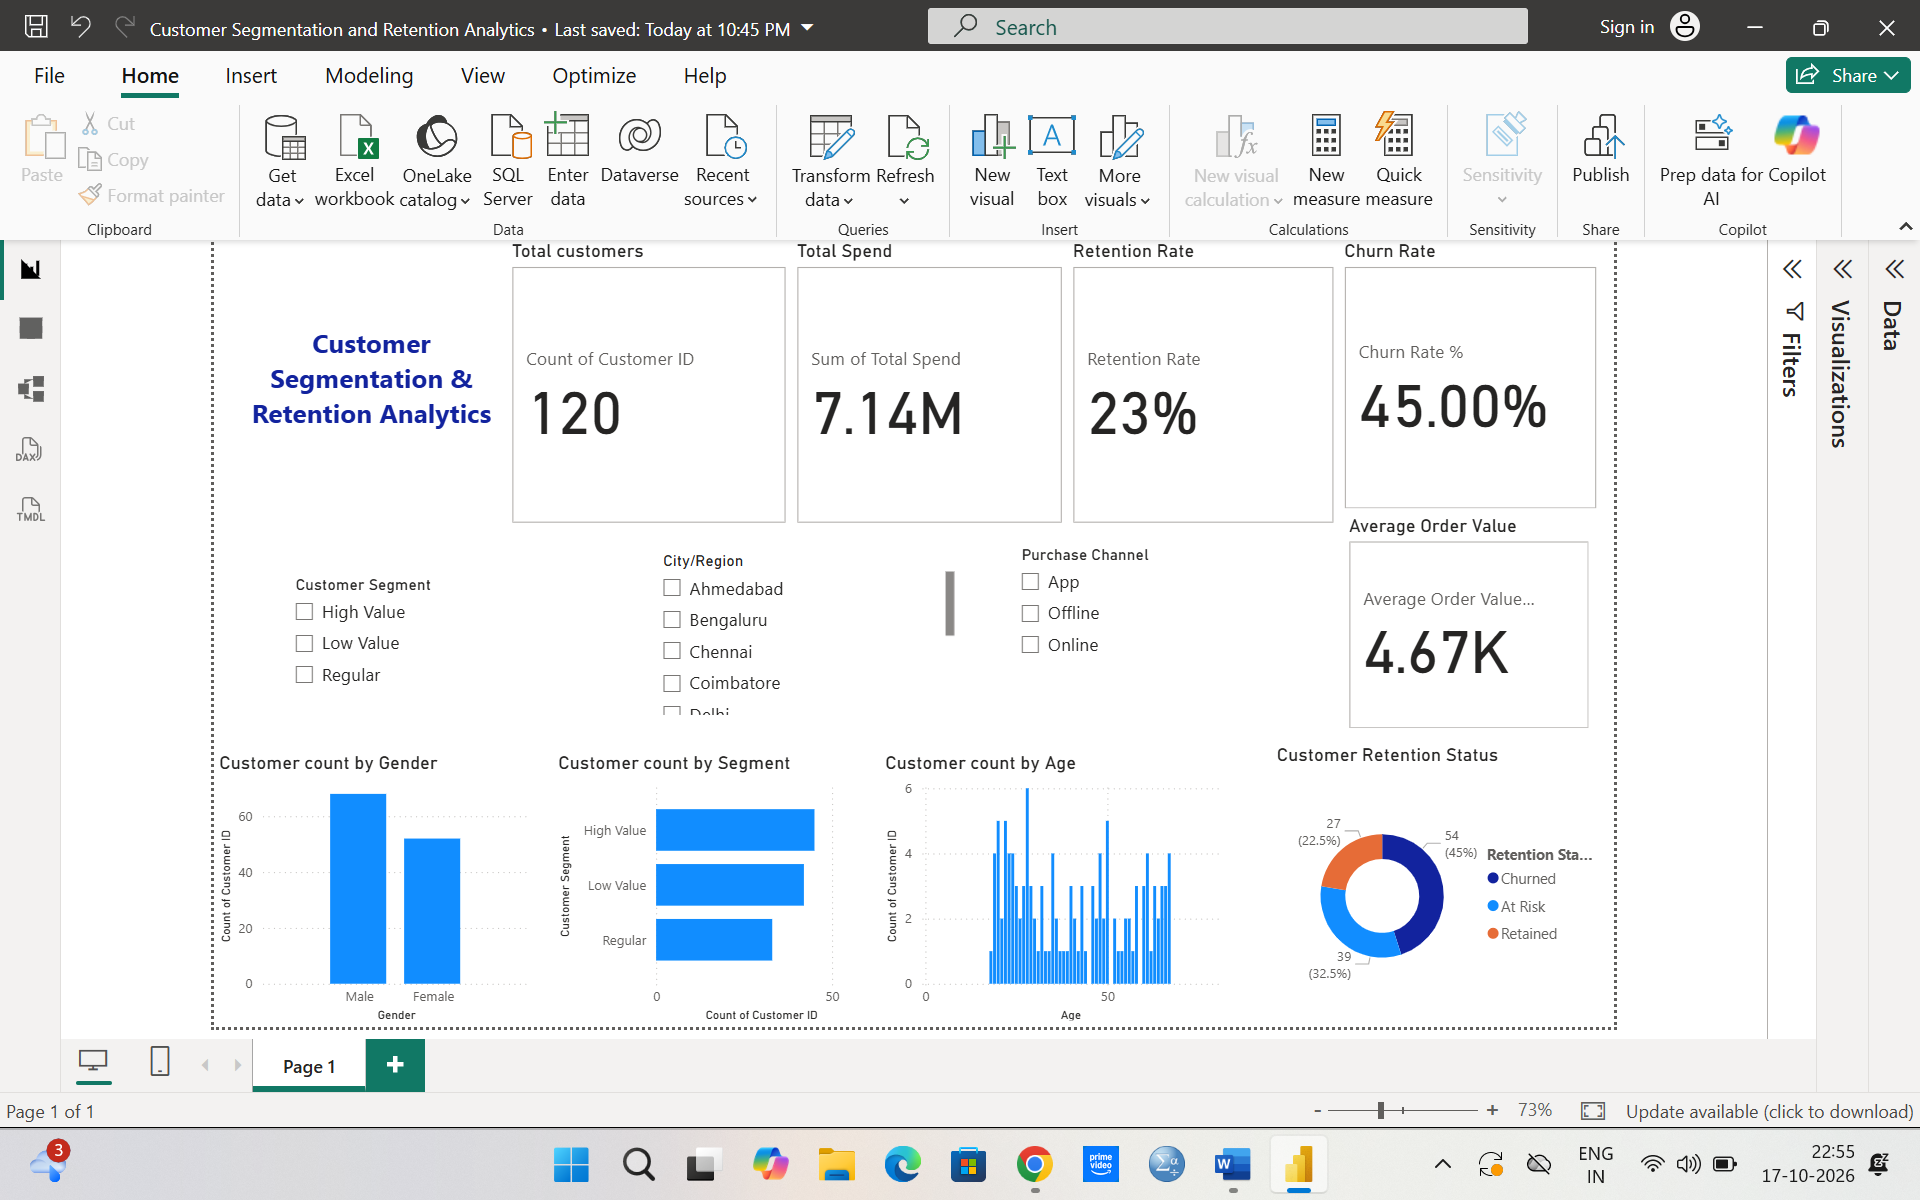

What the dashboard file says about the page in this screenshot:
{"tool":"powerbi","page":{"name":"Page 1","canvas":[1280,720],"ordinal":0},"visuals":[{"type":"clusteredColumnChart","title":"Customer count by Gender","fields":{"Category":["Customers.Gender"],"Y":["CountNonNull(Customers.Customer ID)"]},"box":[0,468,293.7,251.1],"z":0},{"type":"clusteredColumnChart","title":"Customer count by Age","fields":{"Category":["Customers.Age"],"Y":["CountNonNull(Customers.Customer ID)"]},"box":[609.3,468,319.8,251.1],"z":1},{"type":"clusteredBarChart","title":"Customer count by Segment","fields":{"Category":["Customers.Customer Segment"],"Y":["CountNonNull(Customers.Customer ID)"]},"box":[310.1,468,299.2,251.1],"z":2},{"type":"donutChart","title":"Customer Retention Status","fields":{"Category":["Customers.Retention Status"],"Y":["CountNonNull(Customers.Customer ID)"]},"box":[967.5,461.1,301.9,258],"z":3},{"type":"cardVisual","title":"Total customers","fields":{"Data":["Count(Customers.Customer ID)"]},"box":[267.6,0,260.7,263.5],"z":4},{"type":"cardVisual","title":"Total Spend","fields":{"Data":["Sum(Customers.Total Spend)"]},"box":[528.3,0,252.5,263.5],"z":5},{"type":"cardVisual","title":"Retention Rate","fields":{"Data":["Customers.Retention Rate"]},"box":[780.9,0,248.4,263.5],"z":8},{"type":"cardVisual","title":"Churn Rate","fields":{"Data":["Customers.Churn Rate %"]},"box":[1029.2,0,240.2,251.1],"z":9},{"type":"cardVisual","title":"Average Order Value","fields":{"Data":["Customers.Average Order Value Measure"]},"box":[1033.4,251.1,229.2,200.4],"z":10},{"type":"slicer","fields":{"Values":["Customers.Customer Segment"]},"box":[61.8,301.9,293.7,159.2],"z":11},{"type":"slicer","fields":{"Values":["Customers.City/Region"]},"box":[398,280,284.1,159.2],"z":12},{"type":"slicer","fields":{"Values":["Customers.Purchase Channel"]},"box":[726,274.5,281.3,177],"z":13},{"type":"textbox","box":[20.6,0,247,263.5],"z":14}]}

Visuals, with their boxes on the page's 1280x720 design canvas (x1, y1, x2, y2). These are canvas units, not pixel positions in the 1920x1200 screenshot, which may show the page scaled, cropped or inside an application window:
"Customer count by Gender" clusteredColumnChart: {"x1": 0, "y1": 468, "x2": 294, "y2": 719}
"Customer count by Age" clusteredColumnChart: {"x1": 609, "y1": 468, "x2": 929, "y2": 719}
"Customer count by Segment" clusteredBarChart: {"x1": 310, "y1": 468, "x2": 609, "y2": 719}
"Customer Retention Status" donutChart: {"x1": 968, "y1": 461, "x2": 1269, "y2": 719}
"Total customers" cardVisual: {"x1": 268, "y1": 0, "x2": 528, "y2": 264}
"Total Spend" cardVisual: {"x1": 528, "y1": 0, "x2": 781, "y2": 264}
"Retention Rate" cardVisual: {"x1": 781, "y1": 0, "x2": 1029, "y2": 264}
"Churn Rate" cardVisual: {"x1": 1029, "y1": 0, "x2": 1269, "y2": 251}
"Average Order Value" cardVisual: {"x1": 1033, "y1": 251, "x2": 1263, "y2": 452}
slicer - Customers.Customer Segment: {"x1": 62, "y1": 302, "x2": 356, "y2": 461}
slicer - Customers.City/Region: {"x1": 398, "y1": 280, "x2": 682, "y2": 439}
slicer - Customers.Purchase Channel: {"x1": 726, "y1": 274, "x2": 1007, "y2": 452}
textbox: {"x1": 21, "y1": 0, "x2": 268, "y2": 264}
